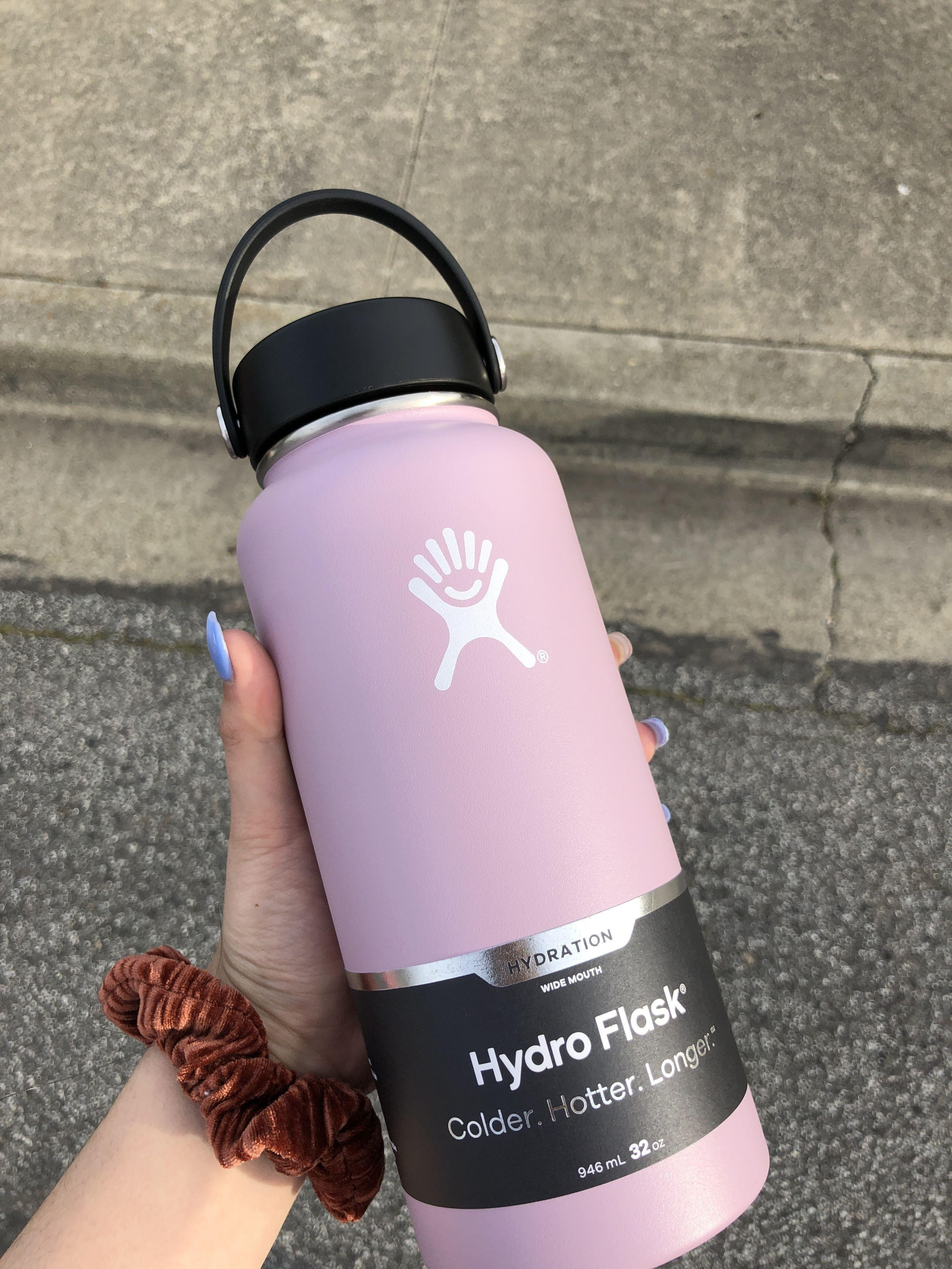gym bottle: (213, 186, 769, 1269)
